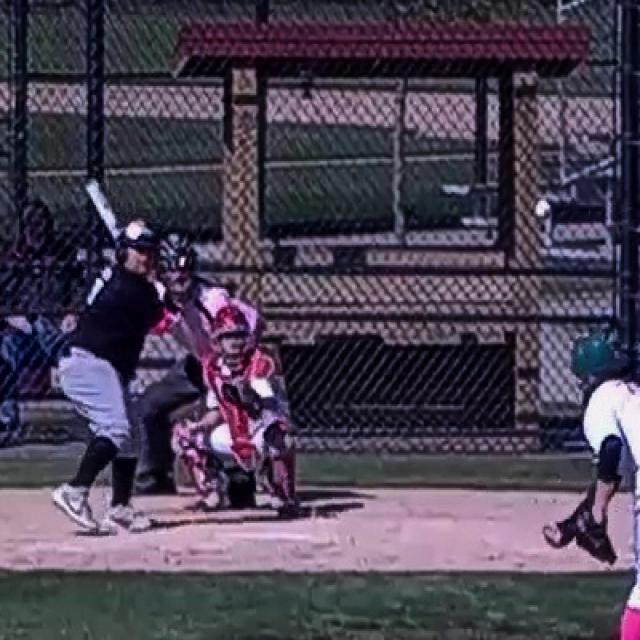baseball: (535, 201, 549, 217)
